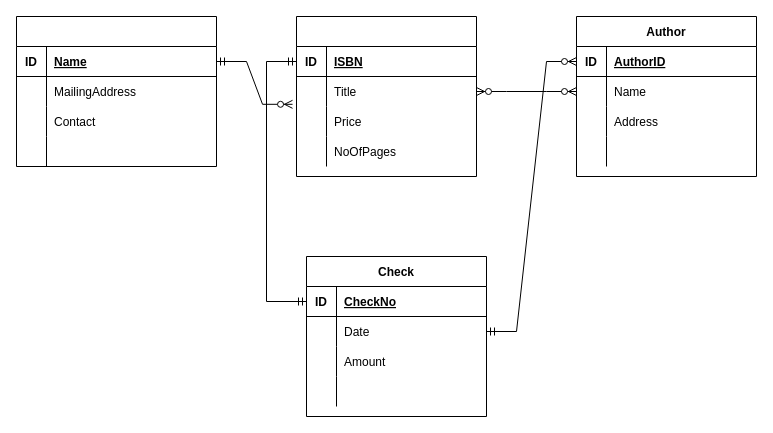
Image size: 773x433. Some labels were removed from this diagram. Each missing label, with the box of its shape:
Book: (296, 16, 476, 176)
Publisher: (16, 16, 216, 166)
